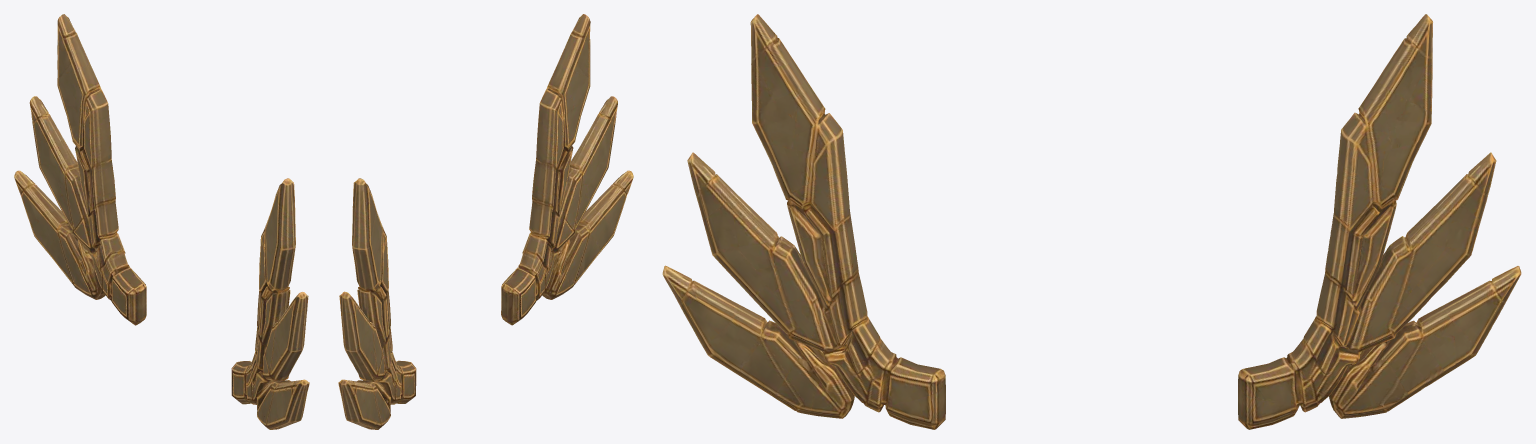
The model's file is rank-4-rich-512.glb.
3 renders of one model, left to right at view 1: azimuth 30°, elevation 25°; view 2: azimuth 150°, elevation 25°; view 3: azimuth 270°, elevation 25°, orthographic. The views are drawn at different scales.
Visible parts, largest first — view 1: chassis; view 2: chassis; view 3: chassis.
Part boxes in pixels (bbox=[...]): chassis: bbox=[14, 14, 309, 429]; chassis: bbox=[338, 14, 633, 429]; chassis: bbox=[662, 14, 1521, 429].
Size of the model in its own units: 0.0822 by 0.4646 by 0.9.
1 material, 1 textured.
